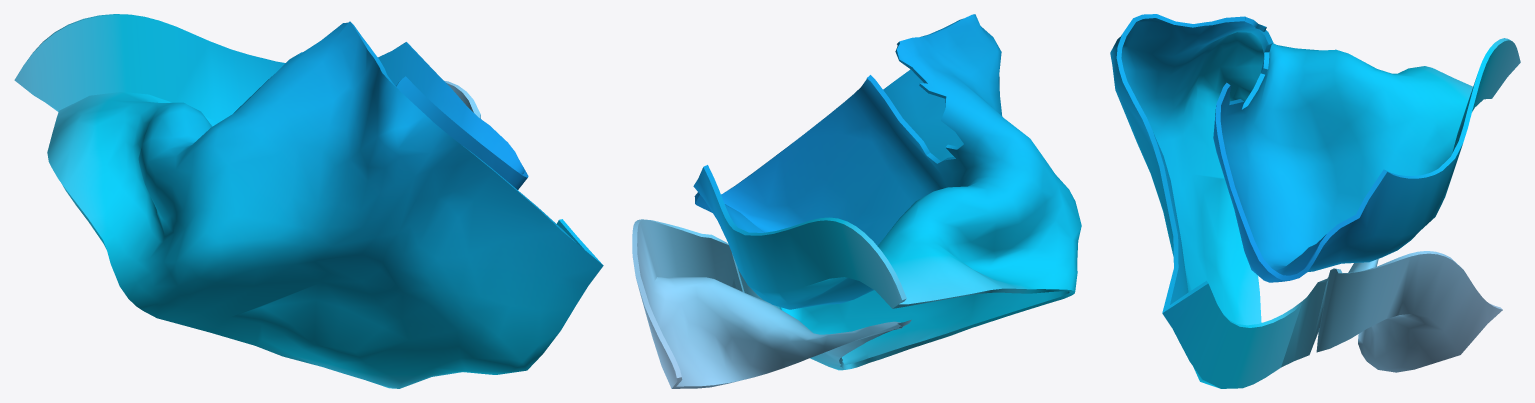
The model's file is s1_lh_underglow_hand.fbx.
The picture shows the model from 3 angles, left to right: view 1: azimuth 30°, elevation 25°; view 2: azimuth 150°, elevation 25°; view 3: azimuth 270°, elevation 25°; orthographic projection. The views are drawn at different scales.
Parts seen in each view (by area): view 1: s1_lh_underglow_hand; view 2: s1_lh_underglow_hand; view 3: s1_lh_underglow_hand.
Boxes of the visible parts, left/top/right/bottom form: s1_lh_underglow_hand: left=14, top=14, right=603, bottom=388; s1_lh_underglow_hand: left=632, top=14, right=1081, bottom=388; s1_lh_underglow_hand: left=1110, top=14, right=1520, bottom=388.
Bounding box in the file's own units: 251 × 219 × 252.
